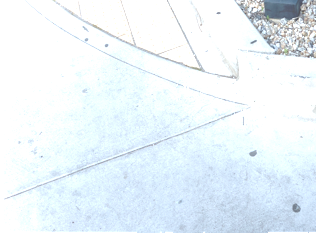Edge: (217, 3, 314, 69)
Uplift: (217, 3, 314, 69)
